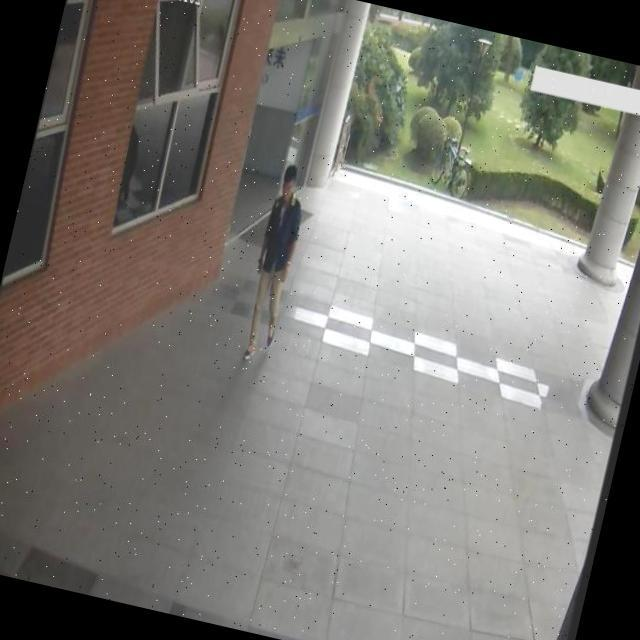person: (228, 143, 326, 385)
